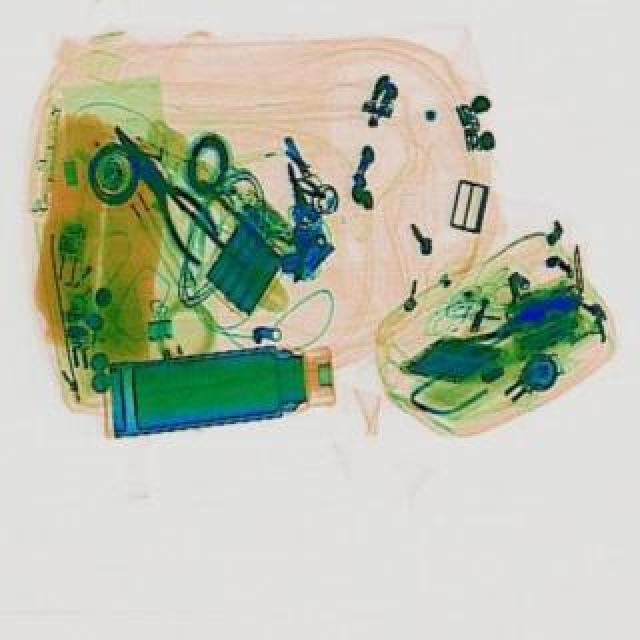wrench: (96, 120, 236, 270)
